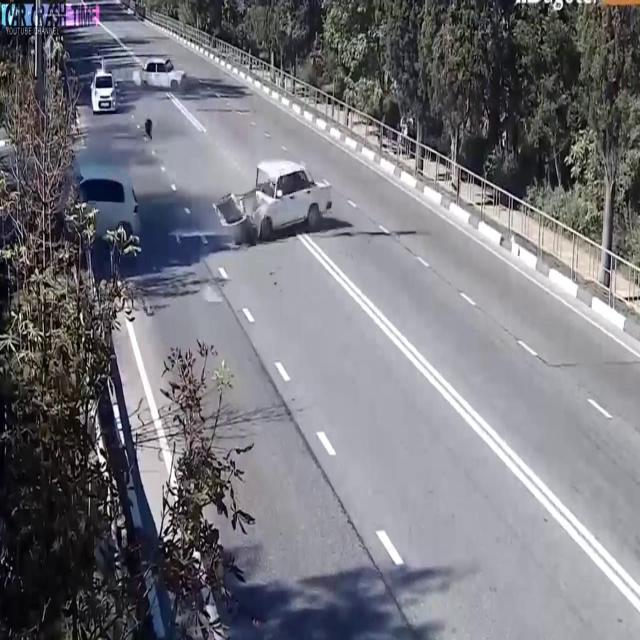accident: (29, 139, 149, 265), (205, 143, 338, 250)
